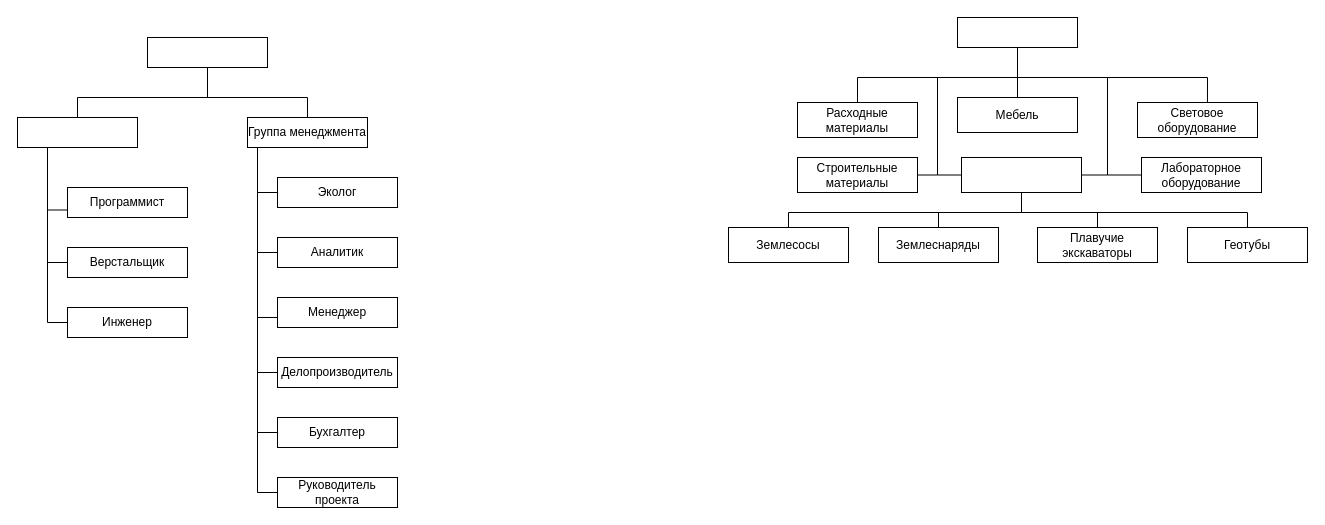
Some shapes in this 1325 by 525 pixel diagram are drawn without their labels. Each missing label, with the box of its shape:
Группа тех. обеспечения: (16, 116, 138, 148)
Материальные ресурсы: (956, 16, 1078, 48)
Рабочее оборудование: (960, 156, 1082, 192)
Трудовые ресурсы: (146, 36, 268, 68)
